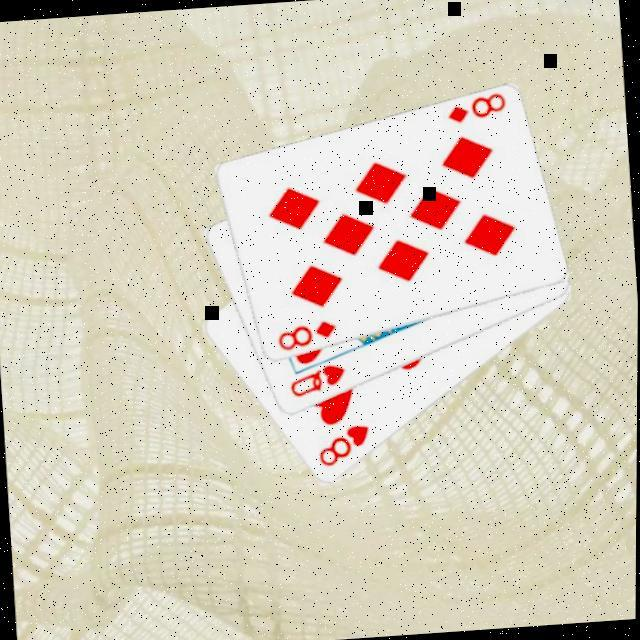8D: (441, 88, 509, 126), (272, 316, 340, 353)
8H: (312, 420, 374, 470)
QH: (284, 358, 348, 401)
